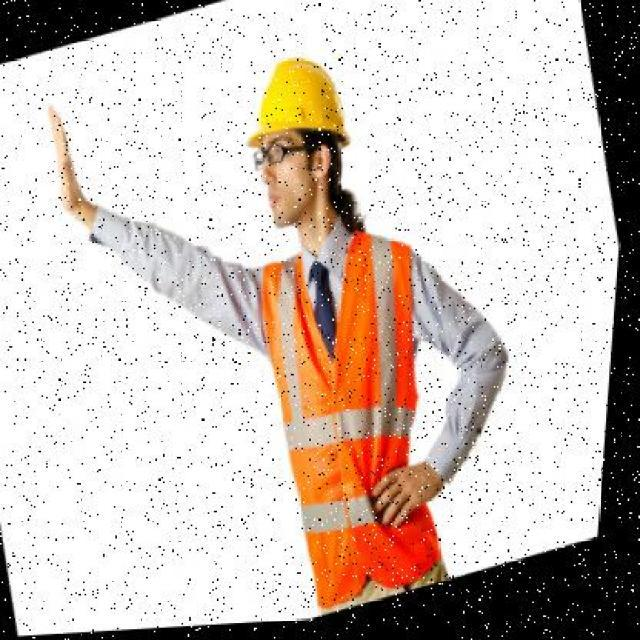helmet: (229, 49, 367, 179)
vest: (235, 206, 487, 596)
